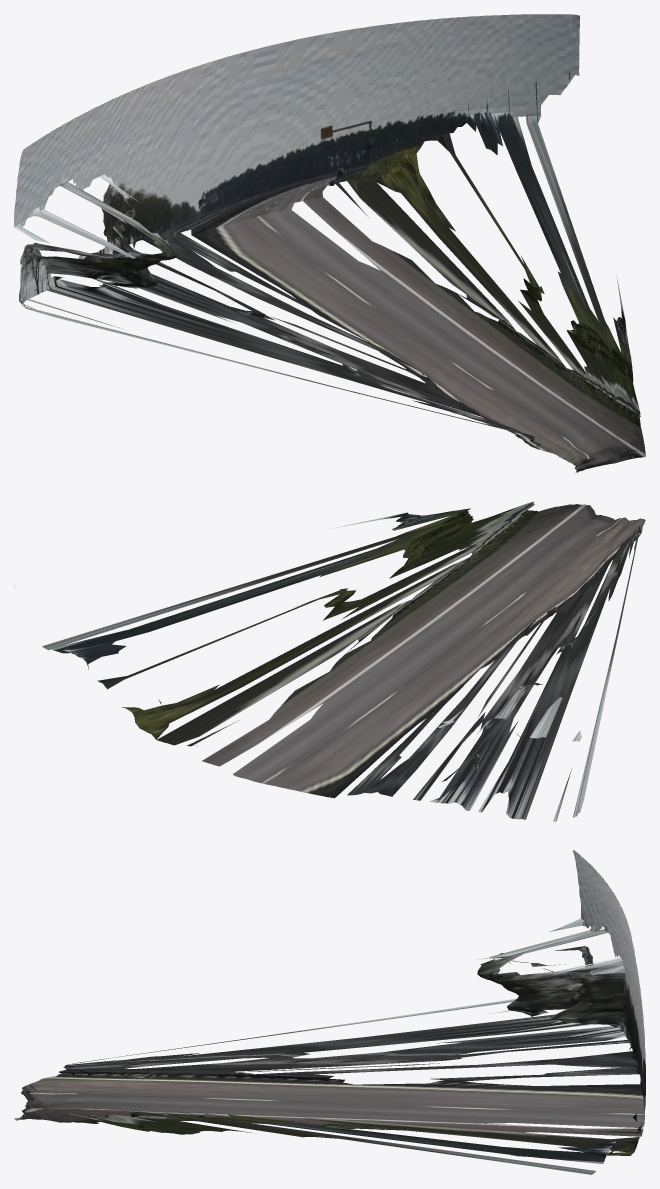
3 renders of one model, top to bottom at view 1: azimuth 30°, elevation 25°; view 2: azimuth 150°, elevation 25°; view 3: azimuth 270°, elevation 25°, orthographic. The views are drawn at different scales.
Visible parts, largest first — view 1: defaultobject; view 2: defaultobject; view 3: defaultobject.
Boxes of the visible parts, x1,y1,x2,y2 form: defaultobject: [14, 14, 645, 472]; defaultobject: [14, 501, 645, 821]; defaultobject: [14, 850, 645, 1174].
Size of the model in its own units: 41.02 by 12.22 by 44.69.
Materials: 1 (1 with a texture image).
